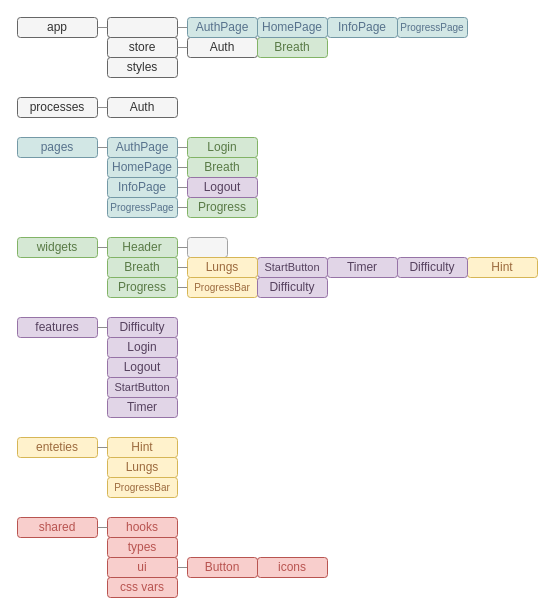
This 555x615 diagram has some shape labels left out. The shapes that lost their labels are listed below. From the top down, each one's box as (x1, y1, x2, y2) in pixels, then its label:
(106, 16, 178, 38): routing
(186, 236, 228, 258): layout
